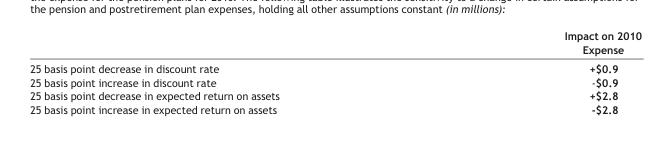table: (29, 28, 641, 115)
table column: (29, 28, 421, 115), (421, 28, 641, 115)
table column header: (29, 28, 641, 58)
table row: (29, 28, 641, 58), (29, 58, 641, 74), (29, 74, 641, 88), (29, 88, 641, 102), (29, 102, 641, 115)
